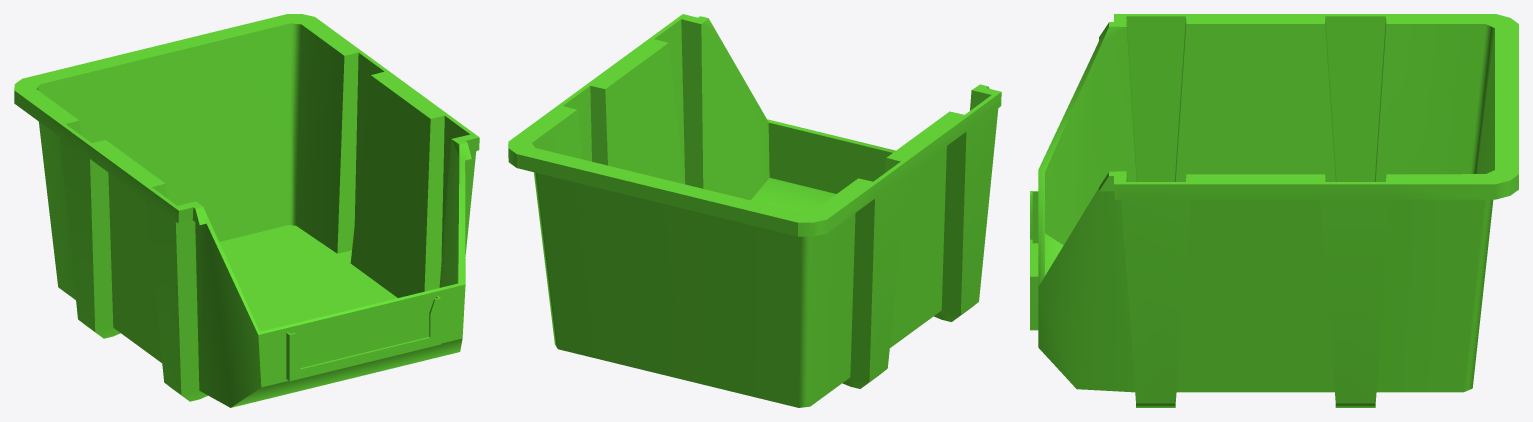
Rendered from CratePlastic_White_01.FBX.
3 views of the same model, side by side, from view 1: azimuth 30°, elevation 25°; view 2: azimuth 150°, elevation 25°; view 3: azimuth 270°, elevation 25° (orthographic). The views are drawn at different scales.
Visible parts, largest first — view 1: SM_CratePlastic_B_01_LOD0; view 2: SM_CratePlastic_B_01_LOD0; view 3: SM_CratePlastic_B_01_LOD0.
Boxes of the visible parts, x1,y1,x2,y2 form: SM_CratePlastic_B_01_LOD0: (14, 14, 479, 407); SM_CratePlastic_B_01_LOD0: (508, 14, 1001, 407); SM_CratePlastic_B_01_LOD0: (1030, 14, 1518, 407).
Size of the model in its own units: 43.68 by 28.15 by 52.99.
